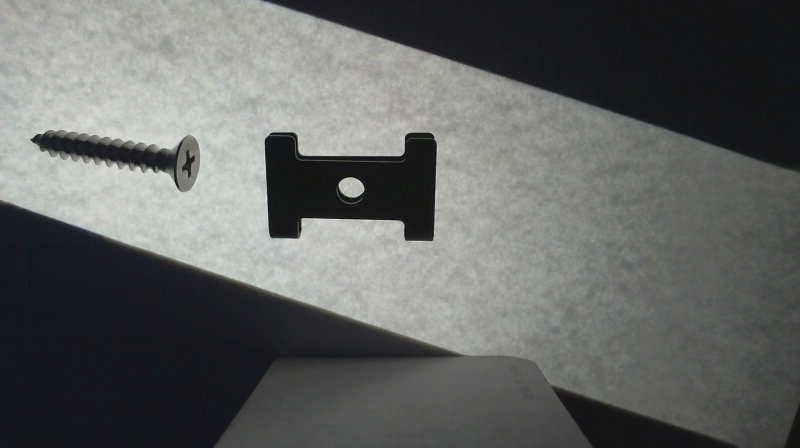O002: (263, 127, 439, 243)
S001: (26, 128, 202, 190)
